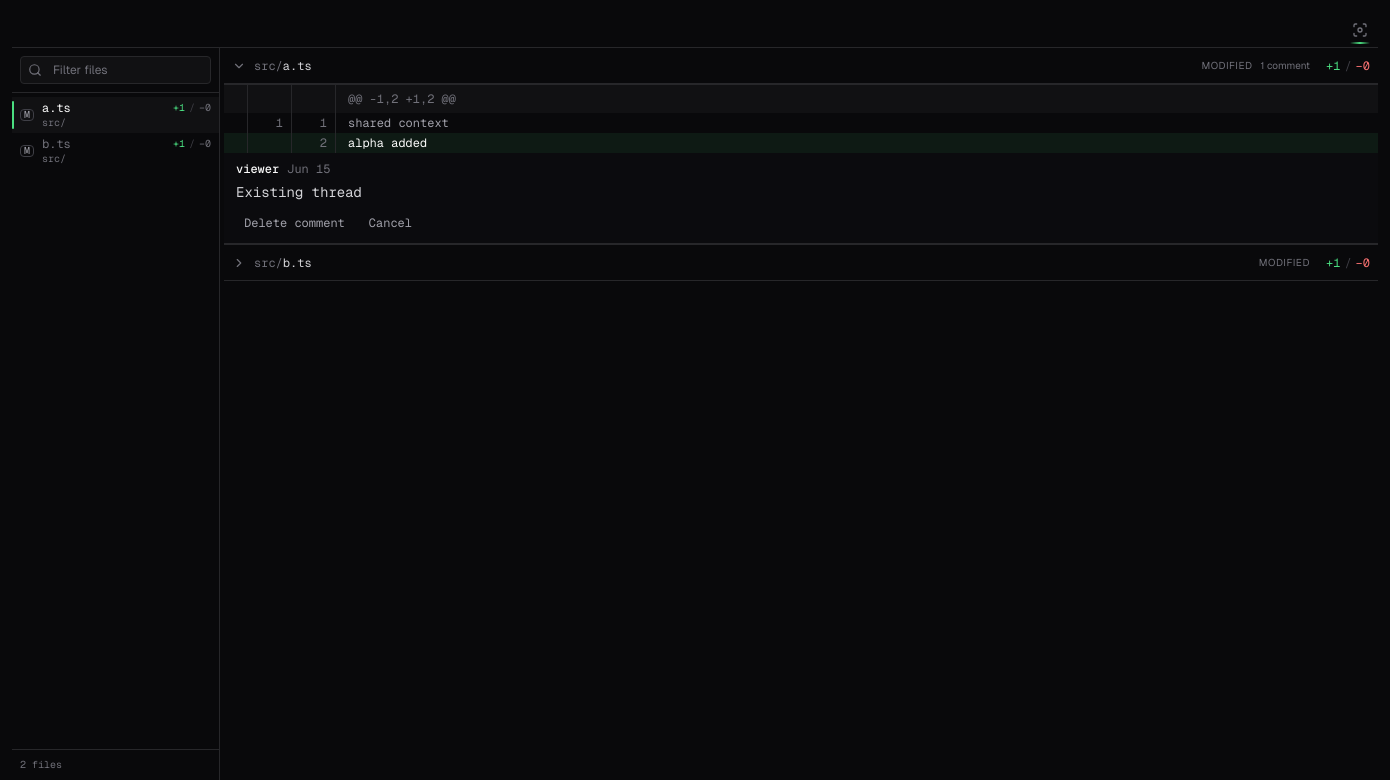
Test: DiffView › a failed delete keeps the thread and shows the error
Earlier steps of the test are not shown.
Click the button "Delete comment" at (294, 223), box [236,211,353,235]
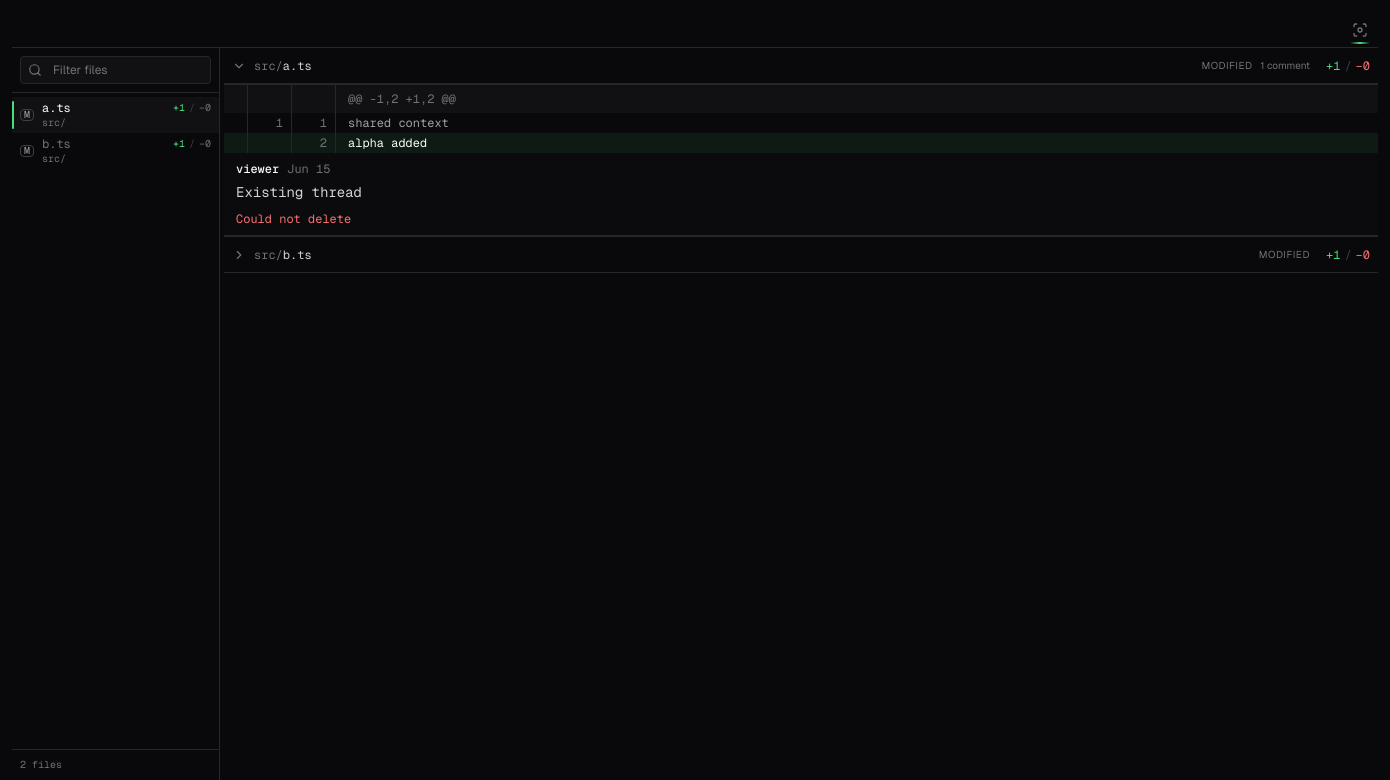
Expected: the text "Existing thread" is shown, [236,183,362,201]
Result: the message reads "Could not delete" at [236,211,351,227]
